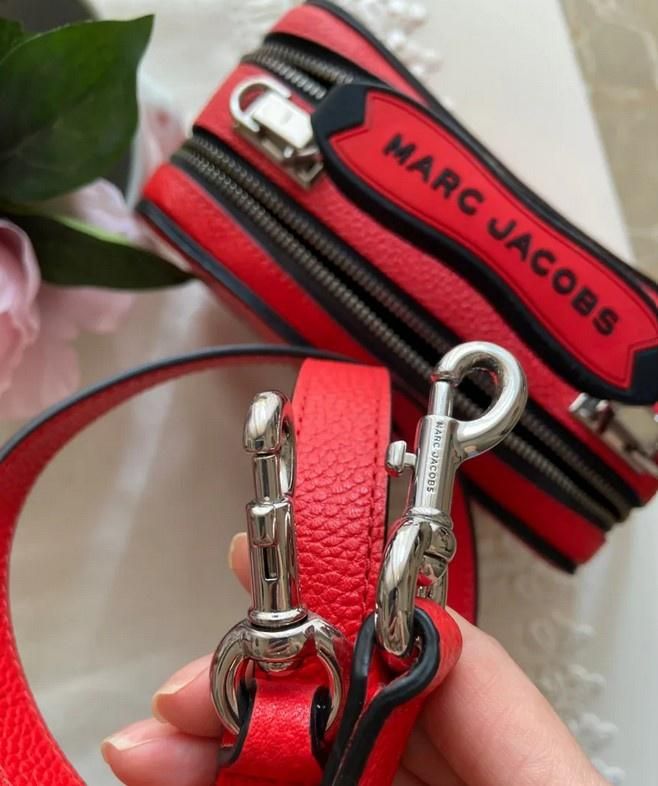MARC-JACOBS: (381, 131, 620, 336), (426, 420, 444, 492)
